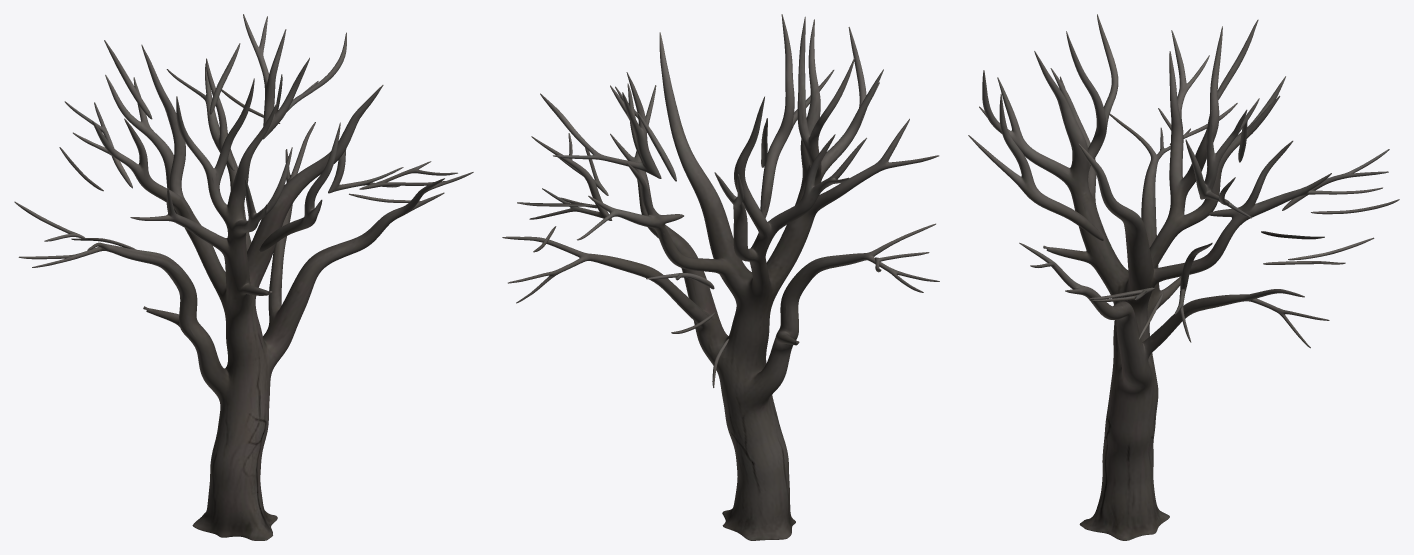
The model's file is prop_bare_b.glb.
3 renders of one model, left to right at view 1: azimuth 30°, elevation 25°; view 2: azimuth 150°, elevation 25°; view 3: azimuth 270°, elevation 25°, orthographic. The views are drawn at different scales.
Visible parts, largest first — view 1: node_0; view 2: node_0; view 3: node_0.
Part boxes in pixels (box(x1,y1,x2,y2)): node_0: box(14, 14, 473, 540); node_0: box(502, 14, 939, 540); node_0: box(968, 14, 1399, 540).
Size of the model in its own units: 0.9368 by 1.08 by 0.8675.
Materials: 1 (1 with a texture image).
